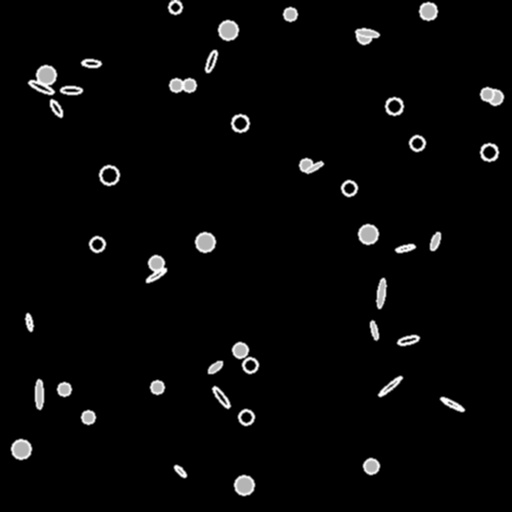pseudomonas: (377, 375, 403, 397), (27, 79, 55, 95), (211, 386, 231, 408), (440, 396, 464, 412), (145, 267, 167, 283), (204, 49, 218, 73), (48, 98, 64, 118), (376, 278, 386, 308), (304, 160, 324, 174), (207, 359, 223, 375), (355, 28, 379, 38), (429, 231, 441, 251), (398, 335, 418, 345), (395, 243, 415, 253), (173, 464, 187, 478), (36, 379, 42, 409), (369, 321, 379, 339), (81, 59, 101, 67), (60, 87, 82, 93), (25, 314, 33, 330)
synechocystis: (37, 66, 55, 84), (235, 476, 253, 494), (359, 225, 377, 243), (196, 233, 214, 251), (100, 166, 118, 184), (12, 440, 30, 458), (219, 21, 237, 39), (386, 98, 402, 114), (481, 144, 497, 160), (420, 3, 436, 19), (232, 115, 248, 131), (239, 410, 253, 424), (488, 90, 502, 104), (149, 256, 163, 270), (342, 181, 356, 195), (243, 358, 257, 372), (233, 343, 247, 357), (357, 29, 371, 43), (90, 237, 104, 251), (410, 136, 424, 150), (364, 459, 378, 473), (284, 8, 296, 20), (82, 411, 94, 423), (58, 383, 70, 395), (170, 79, 182, 91), (300, 159, 312, 171), (151, 381, 163, 393), (169, 1, 181, 13), (183, 79, 195, 91), (481, 88, 493, 100)
